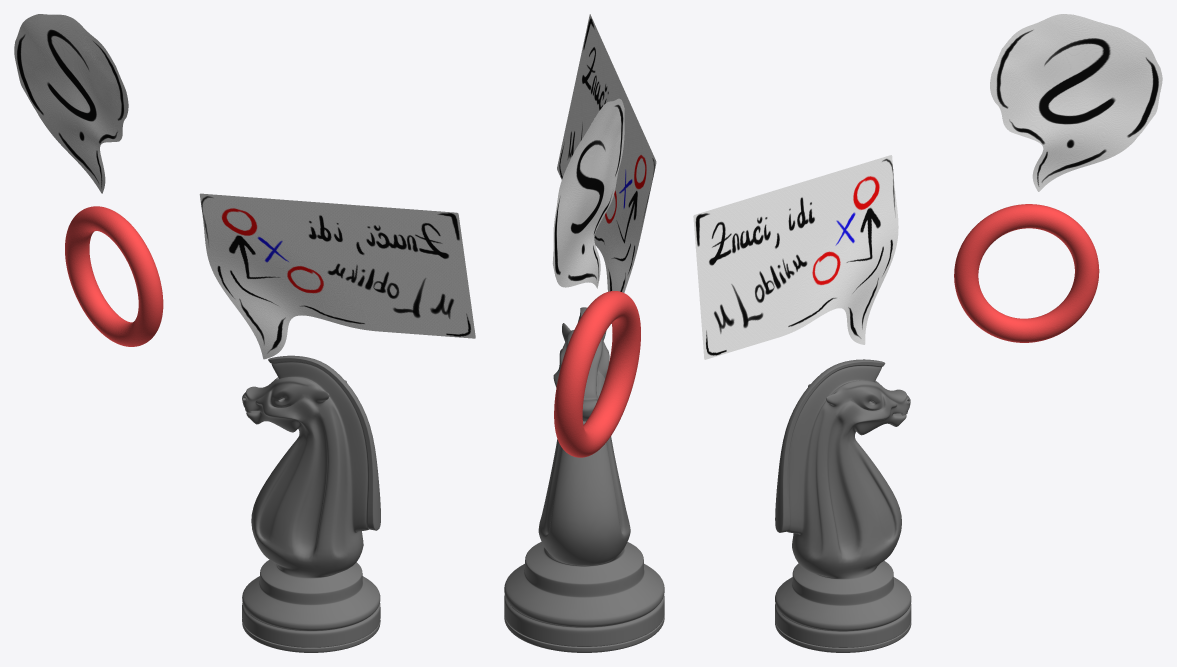
The model's file is login_zvrk.glb.
3 views of the same model, side by side, from view 1: azimuth 30°, elevation 25°; view 2: azimuth 150°, elevation 25°; view 3: azimuth 270°, elevation 25° (orthographic). The views are drawn at different scales.
Bounding box in the file's own units: 1.51 × 3.5 × 2.7.
